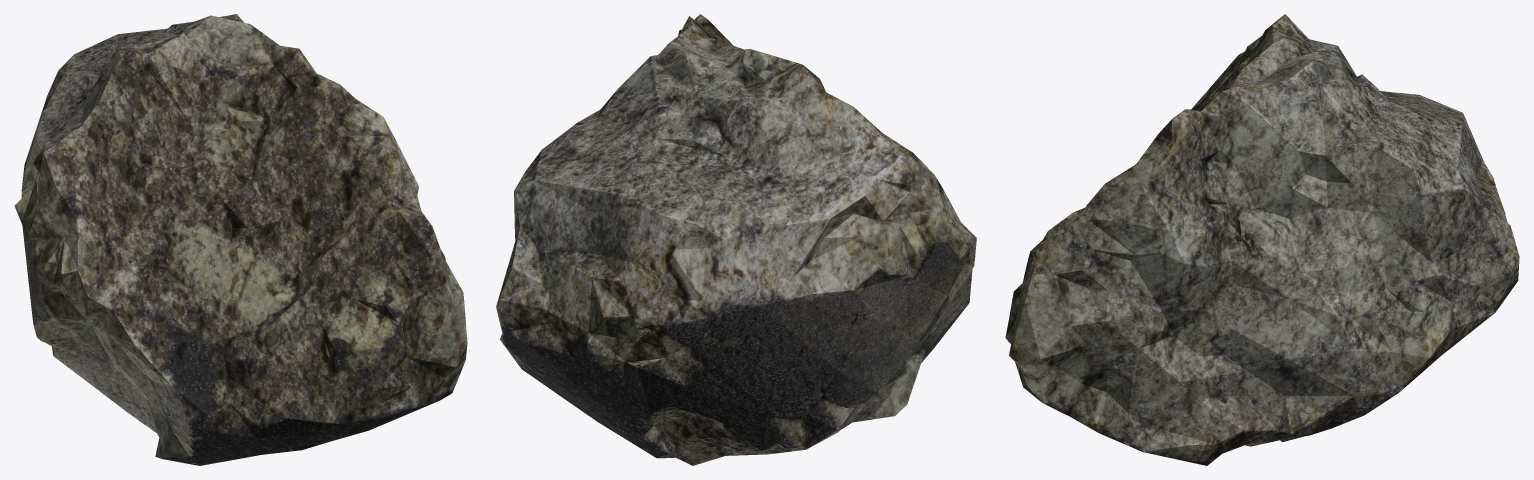
The model's file is RBT04261-0.fbx.
3 renders of one model, left to right at view 1: azimuth 30°, elevation 25°; view 2: azimuth 150°, elevation 25°; view 3: azimuth 270°, elevation 25°, orthographic. The views are drawn at different scales.
Visible parts, largest first — view 1: RBT04261-0; view 2: RBT04261-0; view 3: RBT04261-0.
Part boxes in pixels (left/top/right/bottom): RBT04261-0: left=14, top=14, right=467, bottom=465; RBT04261-0: left=496, top=14, right=976, bottom=465; RBT04261-0: left=1005, top=14, right=1519, bottom=465.
Bounding box in the file's own units: 37.96 × 41.01 × 50.92.
